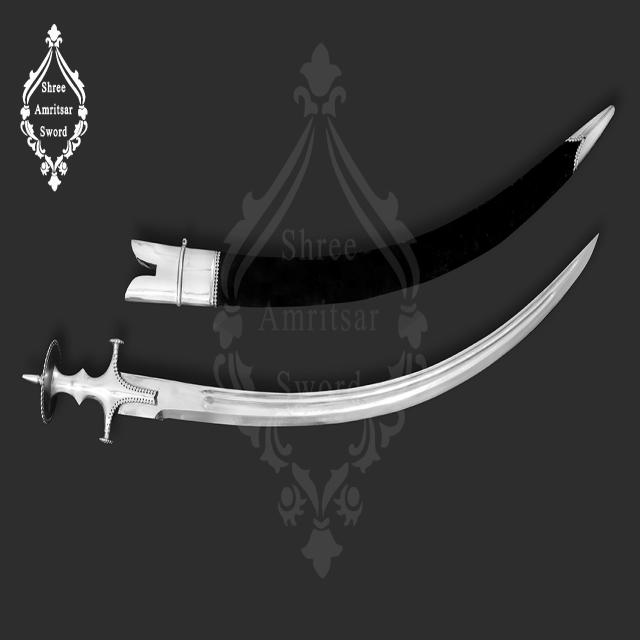Knife: (20, 193, 640, 443)
